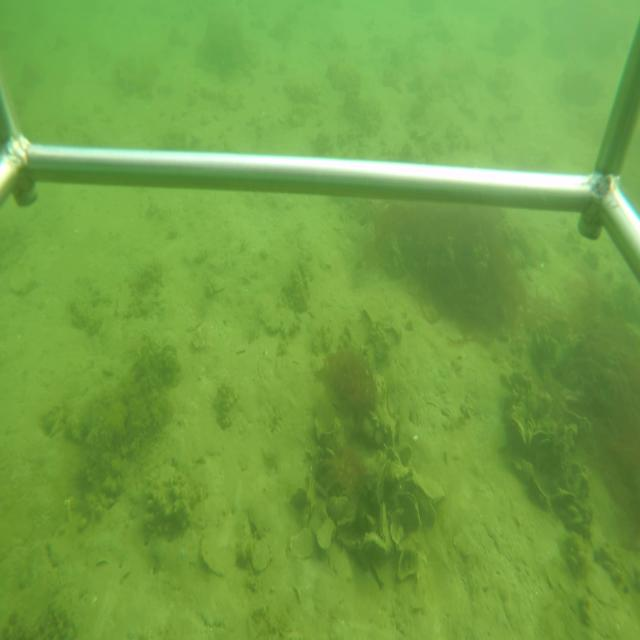Oyster-Closed: (410, 469, 447, 504), (398, 491, 422, 533), (379, 501, 395, 558), (529, 475, 552, 510)
